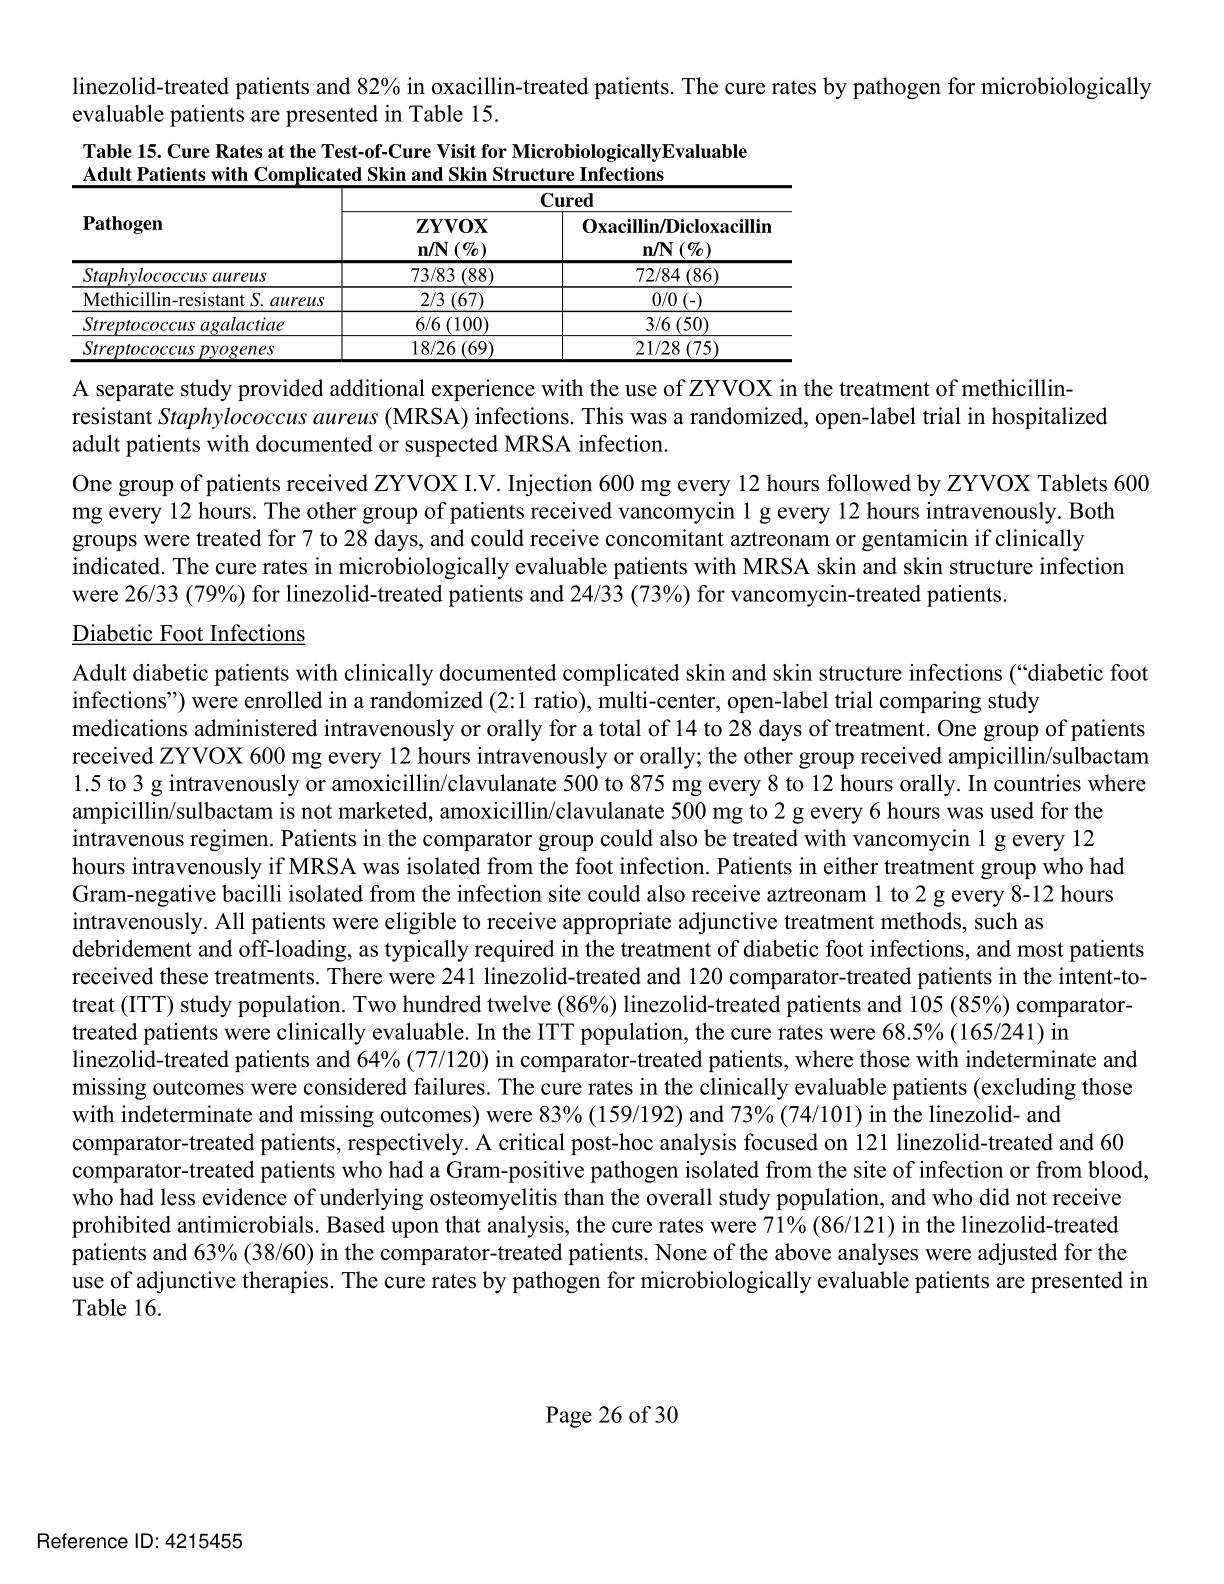partial_lined_merged_cells: (69, 183, 796, 363)
